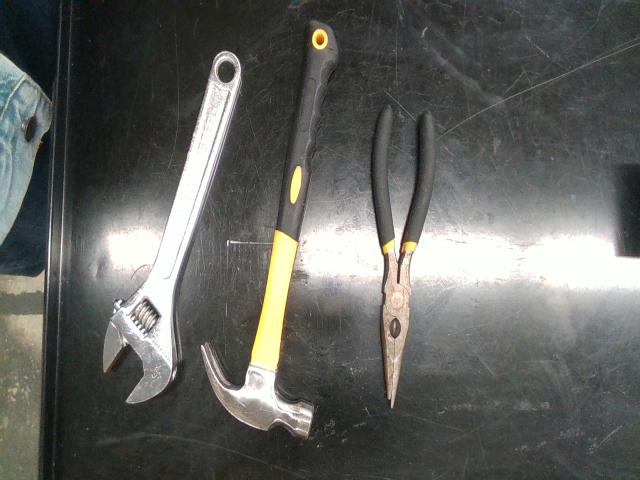Adjustable spanner: (102, 52, 241, 403)
Hammer: (201, 20, 339, 438)
Needle-nose pliers: (372, 105, 435, 408)
